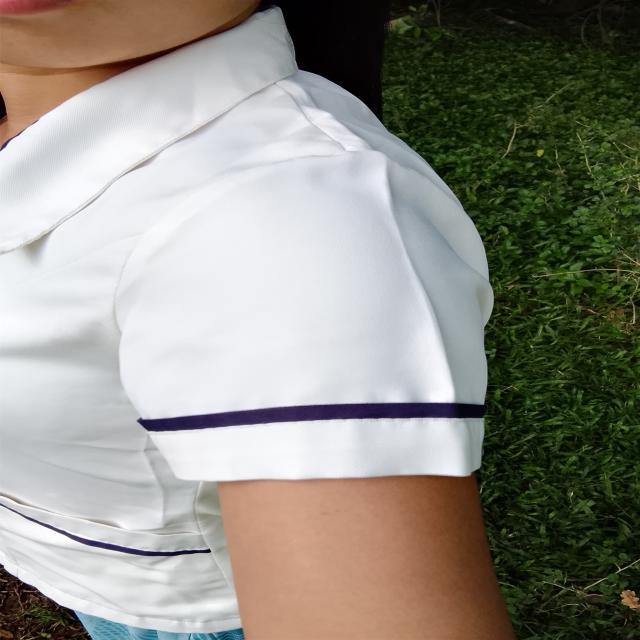education_female_uniform: (0, 7, 565, 616)
